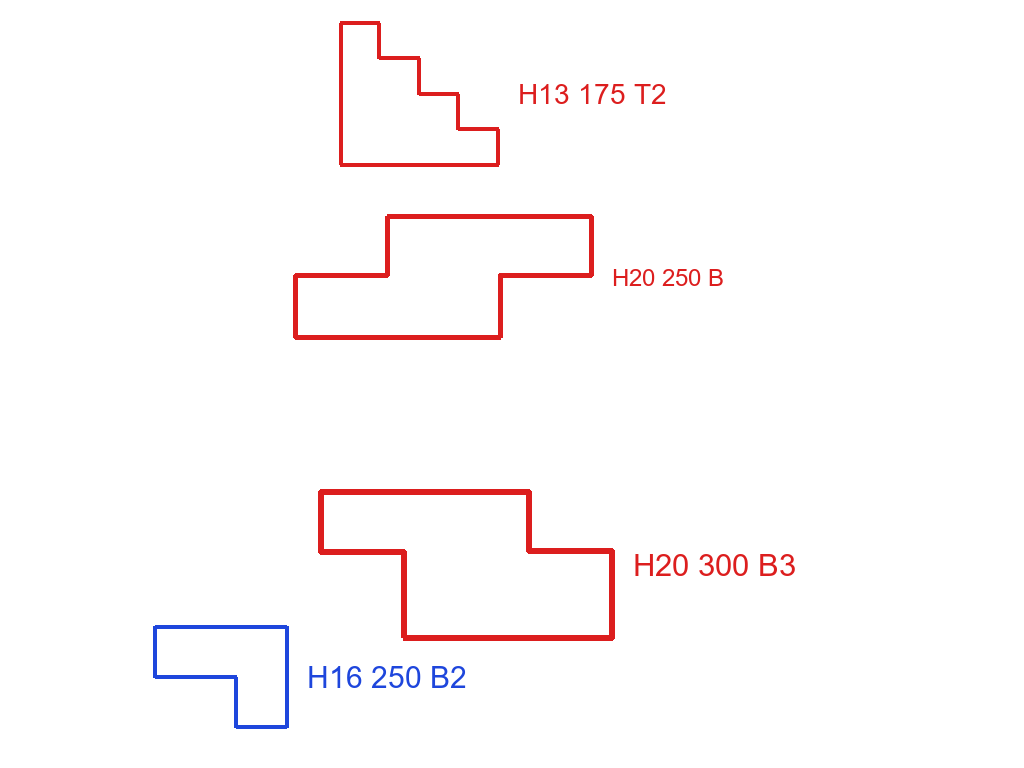shape: (316, 487, 618, 643), (291, 212, 596, 342), (336, 19, 502, 169), (152, 623, 291, 732)
text: (631, 552, 798, 578), (305, 664, 469, 690), (516, 82, 669, 106), (610, 267, 726, 288)
